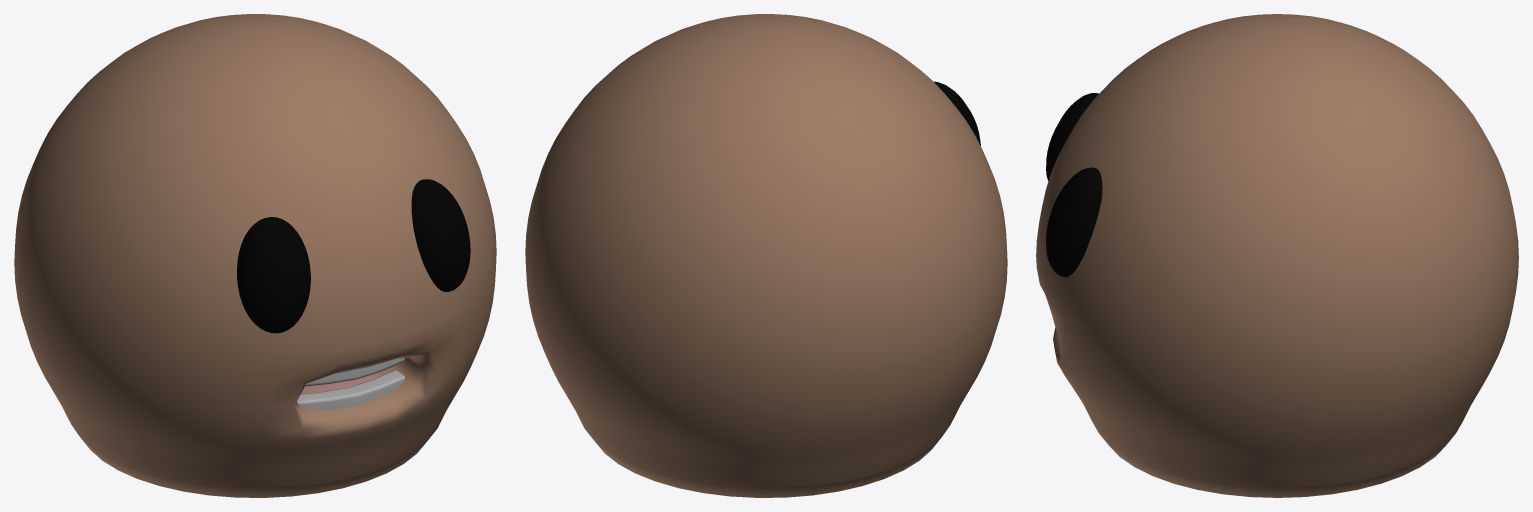
The model's file is Chubby_Head.fbx.
3 views of the same model, side by side, from view 1: azimuth 30°, elevation 25°; view 2: azimuth 150°, elevation 25°; view 3: azimuth 270°, elevation 25° (orthographic).
Parts seen in each view (by area): view 1: pasted__pasted__Head, pasted__pasted__Eyes7, pasted__pasted__Bot_Teeth, pasted__pasted__Top_Teeth, pasted__pasted__Tounge3; view 2: pasted__pasted__Head, pasted__pasted__Eyes7; view 3: pasted__pasted__Head, pasted__pasted__Eyes7.
Part boxes in pixels (x1,y1,x2,y2): pasted__pasted__Head: (14,14,496,497); pasted__pasted__Eyes7: (237,179,470,333); pasted__pasted__Bot_Teeth: (297,370,404,410); pasted__pasted__Top_Teeth: (305,357,404,386); pasted__pasted__Tounge3: (301,373,379,394); pasted__pasted__Head: (525,14,1007,497); pasted__pasted__Eyes7: (934,81,980,145); pasted__pasted__Head: (1036,14,1518,497); pasted__pasted__Eyes7: (1046,93,1102,277).
Size of the model in its own units: 1.45 by 1.3 by 1.45.
